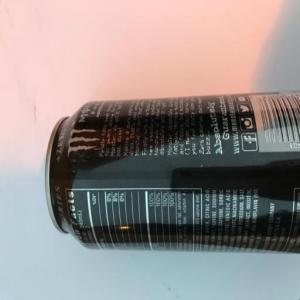Can: (45, 89, 300, 254)
